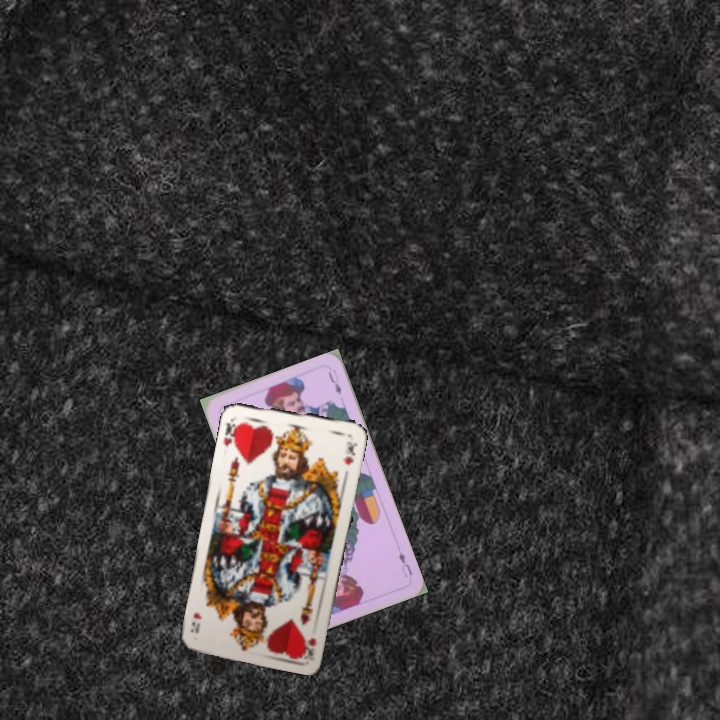EU: (394, 548, 415, 580)
HK: (219, 412, 242, 450), (303, 634, 319, 659)
